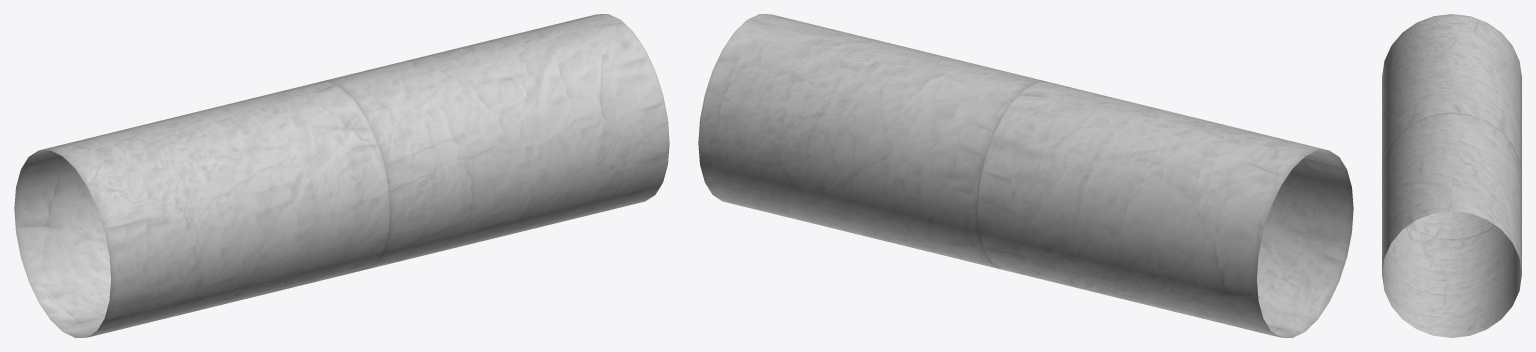
The model's file is Subway_Pipe_Foil3_L1.fbx.
3 views of the same model, side by side, from view 1: azimuth 30°, elevation 25°; view 2: azimuth 150°, elevation 25°; view 3: azimuth 270°, elevation 25° (orthographic). The views are drawn at different scales.
Visible parts, largest first — view 1: pCylinder17; view 2: pCylinder17; view 3: pCylinder17.
Boxes of the visible parts, x1,y1,x2,y2 form: pCylinder17: (14, 14, 669, 337); pCylinder17: (698, 14, 1353, 337); pCylinder17: (1382, 14, 1521, 337).
Size of the model in its own units: 200 by 60 by 60.
